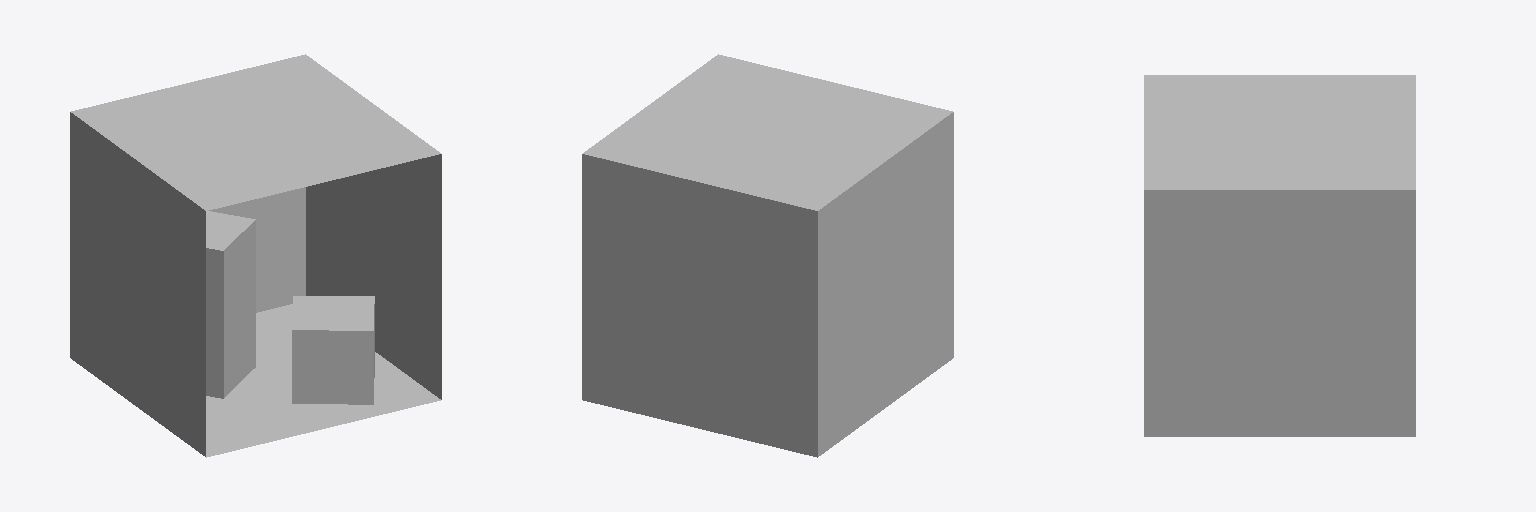
Rendered from boxes-open.obj.
The picture shows the model from 3 angles: view 1: azimuth 30°, elevation 25°; view 2: azimuth 150°, elevation 25°; view 3: azimuth 270°, elevation 25°; orthographic projection.
Parts seen in each view (by area): view 1: Walls, Box_small, Box_tall; view 2: Walls; view 3: Walls.
Part boxes in pixels (bbox=[...]): Walls: bbox=[70, 54, 441, 457]; Box_small: bbox=[292, 296, 374, 404]; Box_tall: bbox=[206, 211, 255, 398]; Walls: bbox=[582, 54, 953, 457]; Walls: bbox=[1144, 75, 1415, 436].
Size of the model in its own units: 2 by 2 by 2.